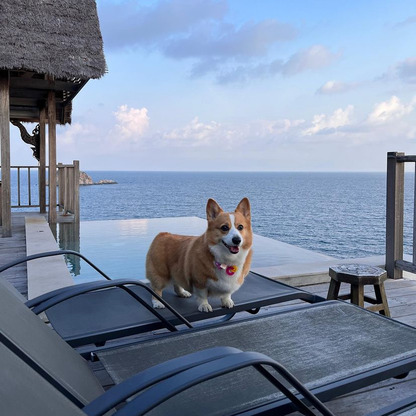Corgi: (126, 179, 280, 332)
